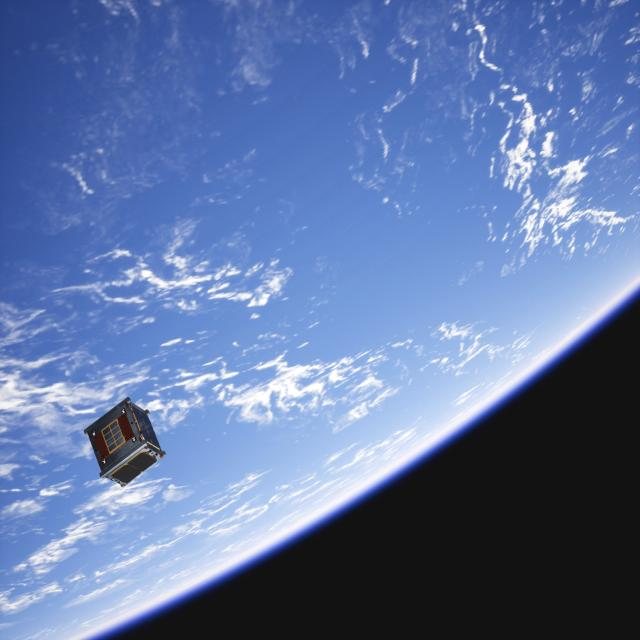medium_debris: (85, 396, 169, 488)
